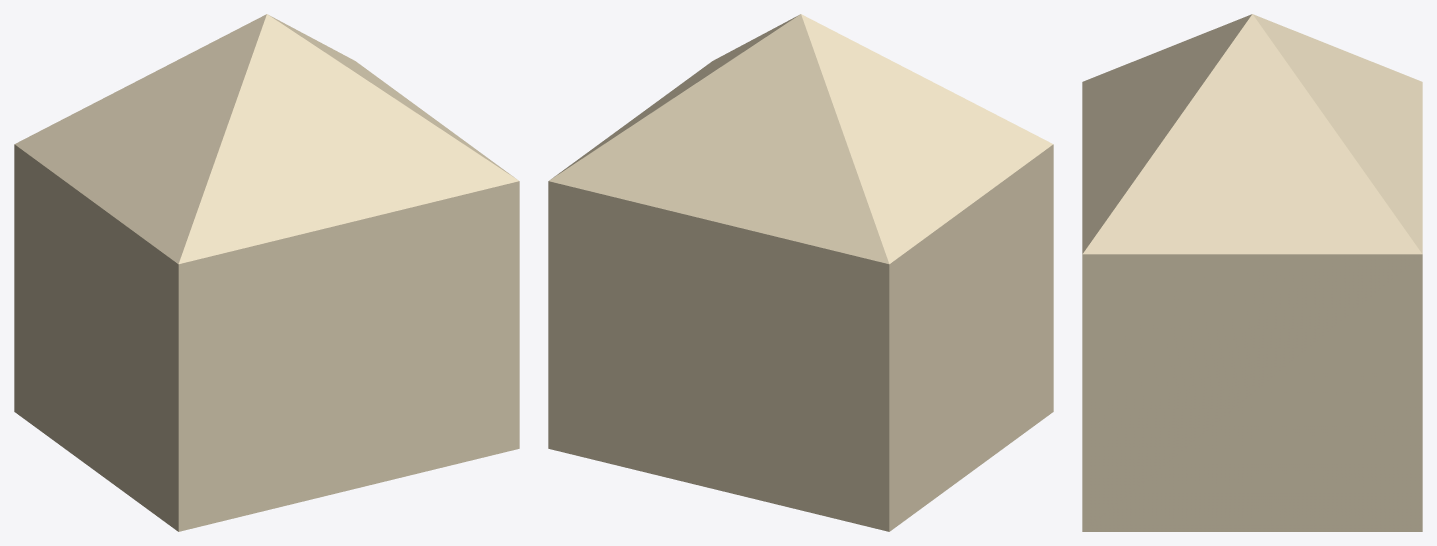
The model's file is kit_tower_c.glb.
The picture shows the model from 3 angles, left to right: view 1: azimuth 30°, elevation 25°; view 2: azimuth 150°, elevation 25°; view 3: azimuth 270°, elevation 25°; orthographic projection. The views are drawn at different scales.
Visible parts, largest first — view 1: kit_tower_c; view 2: kit_tower_c; view 3: kit_tower_c.
Boxes of the visible parts, x1,y1,x2,y2 form: kit_tower_c: (14,14,519,531); kit_tower_c: (548,14,1053,531); kit_tower_c: (1082,14,1422,531).
Size of the model in its own units: 1.2 by 1.4 by 1.
